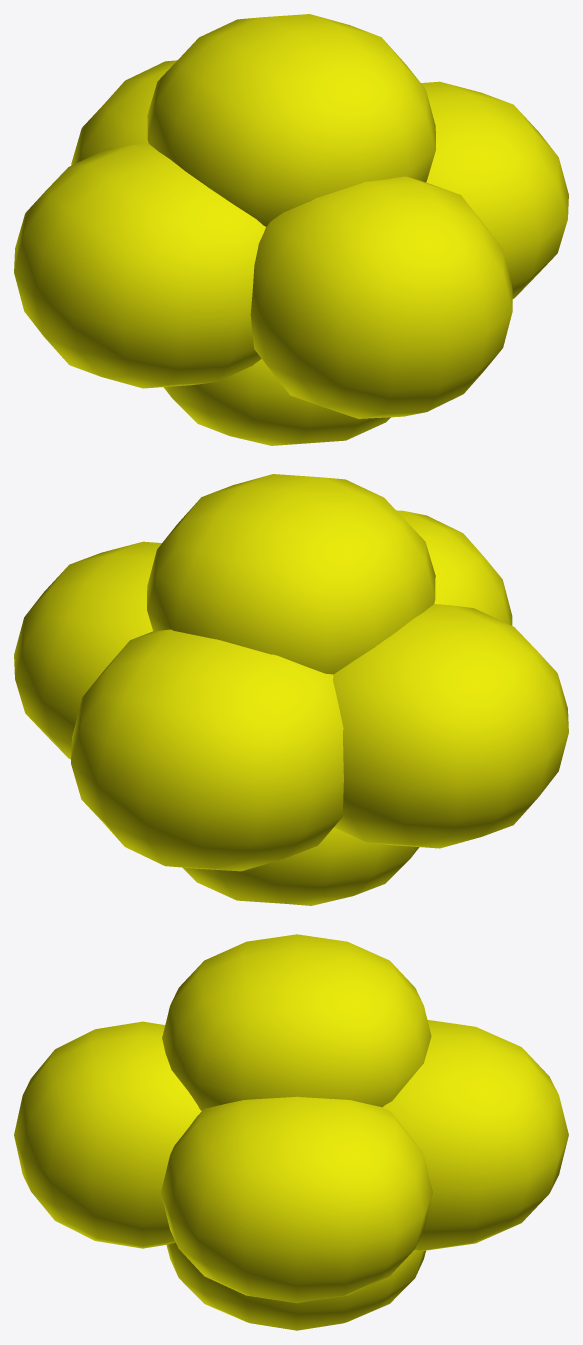
The model's file is DustParticle.fbx.
3 renders of one model, top to bottom at view 1: azimuth 30°, elevation 25°; view 2: azimuth 150°, elevation 25°; view 3: azimuth 270°, elevation 25°, orthographic. The views are drawn at different scales.
Parts seen in each view (by area): view 1: DustParticle; view 2: DustParticle; view 3: DustParticle.
Boxes of the visible parts, x1,y1,x2,y2 form: DustParticle: (14, 14, 568, 445); DustParticle: (14, 474, 568, 905); DustParticle: (14, 934, 568, 1330).
Size of the model in its own units: 52.67 by 38.71 by 53.75.
